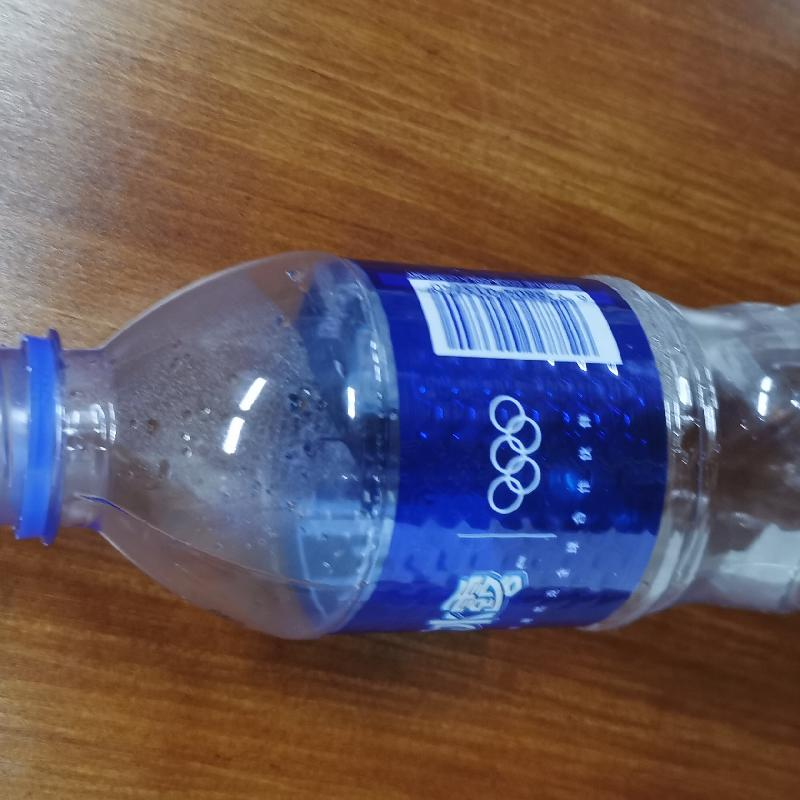bottles: (3, 251, 799, 646)
